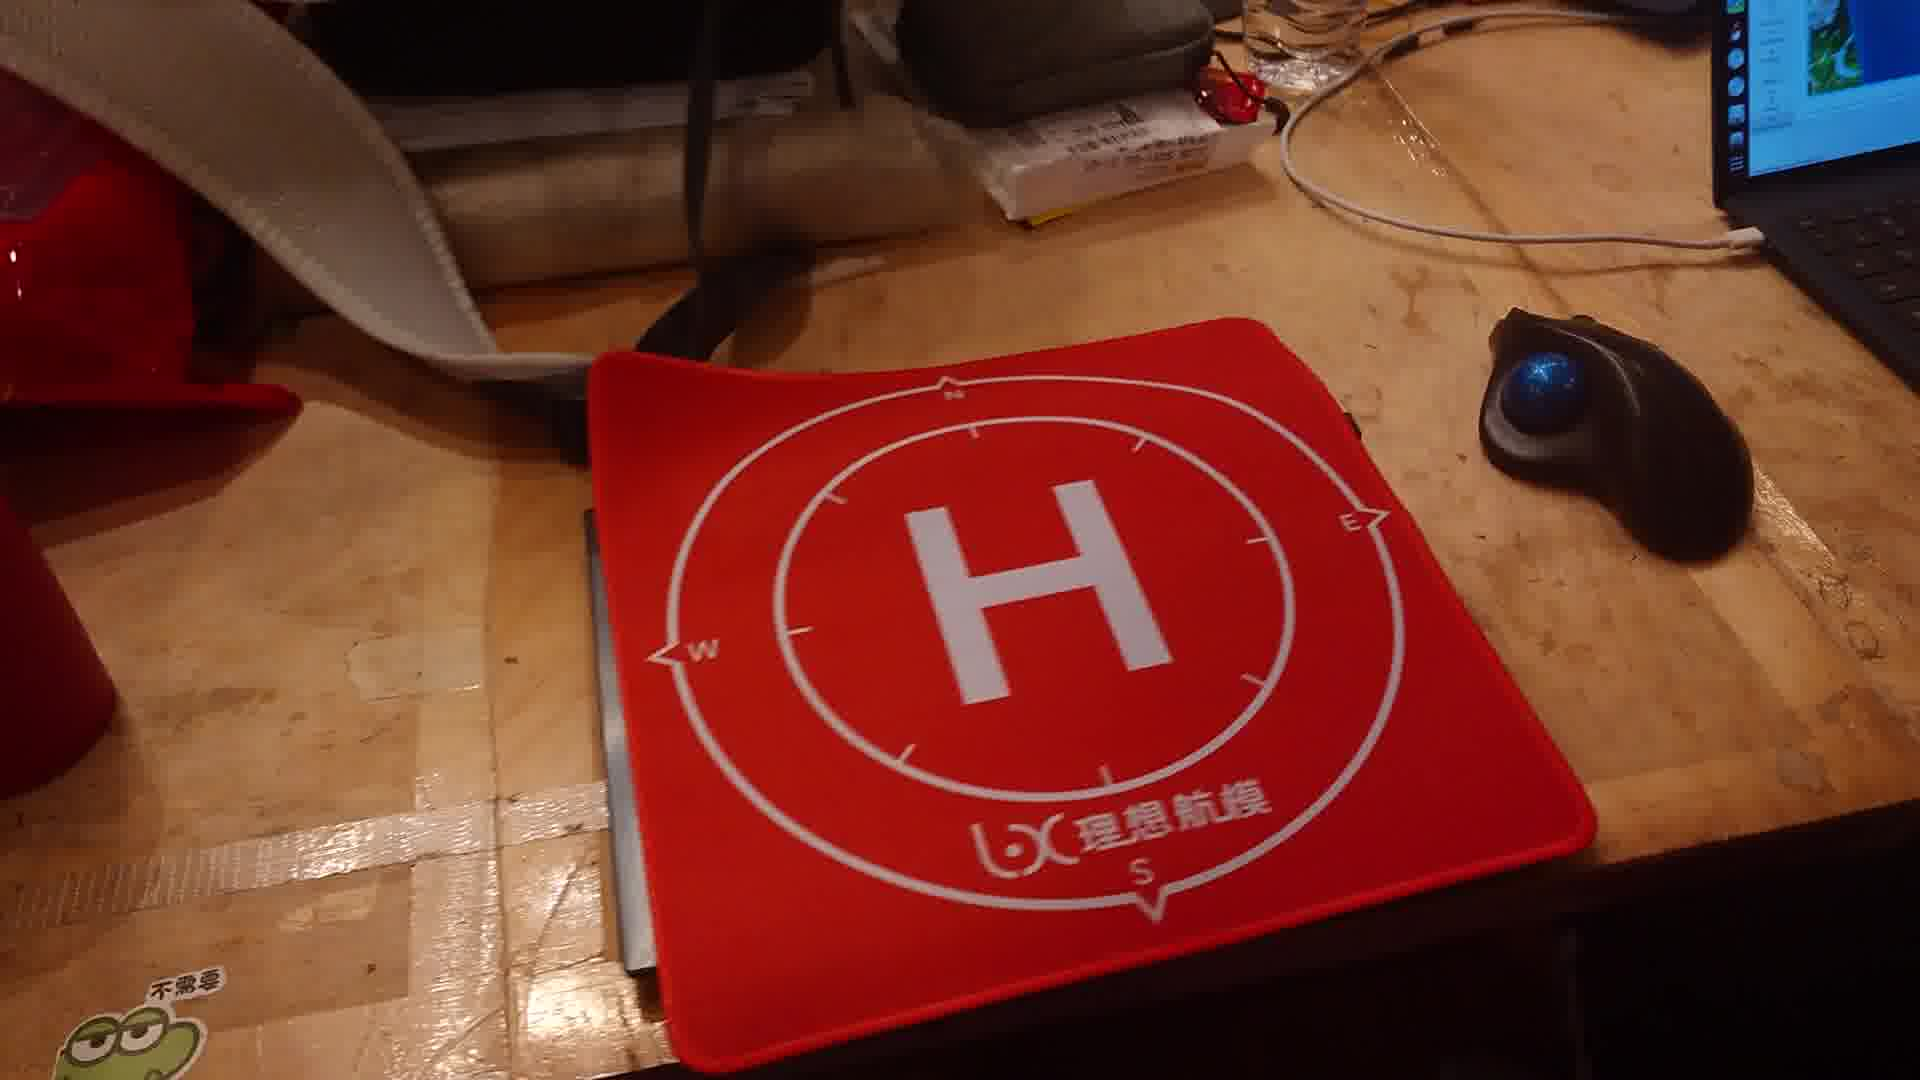H: (909, 477, 1174, 709)
